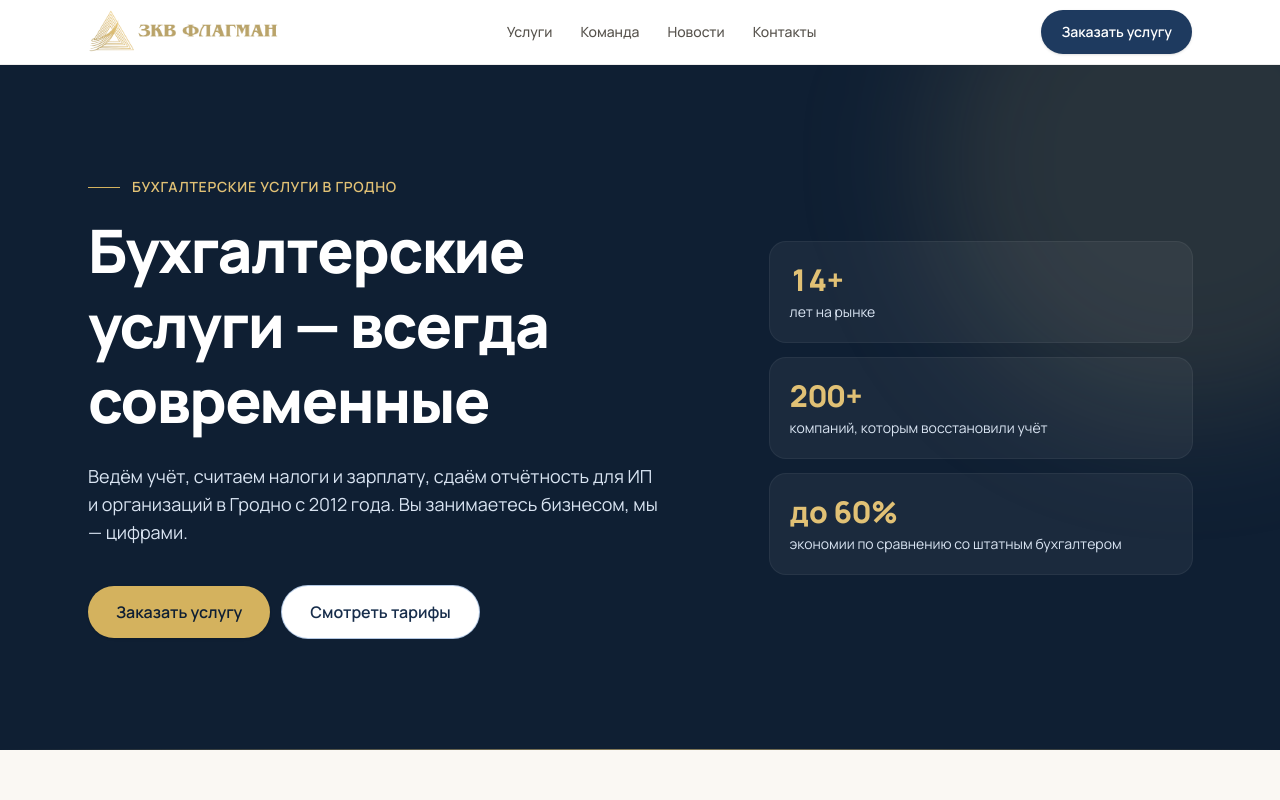
Test: App shell › opens the order modal from the header button
Click the 1st button "Заказать услугу" at (1117, 32), box x1=1041 y1=10 x2=1192 y2=54
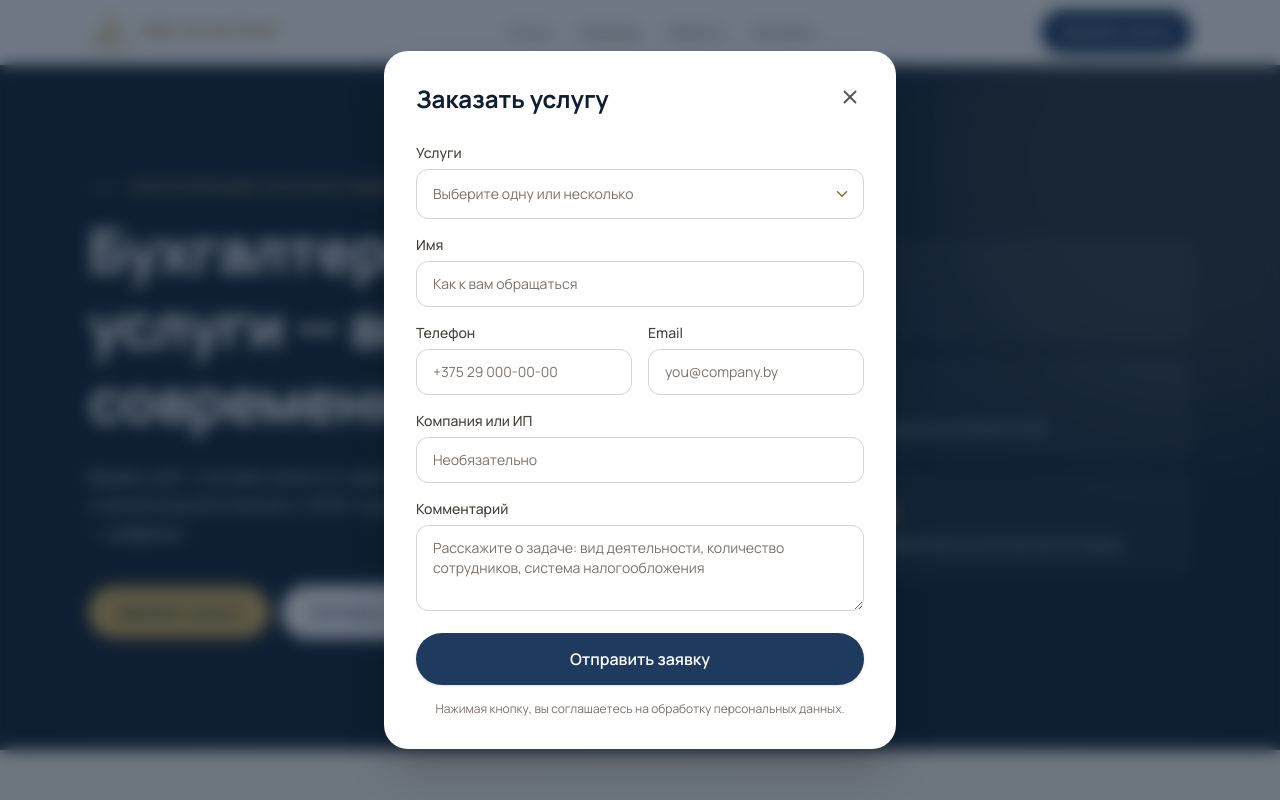
Check: the dialog "Заказать услугу" is shown, box x1=384 y1=51 x2=896 y2=749
Press Escape
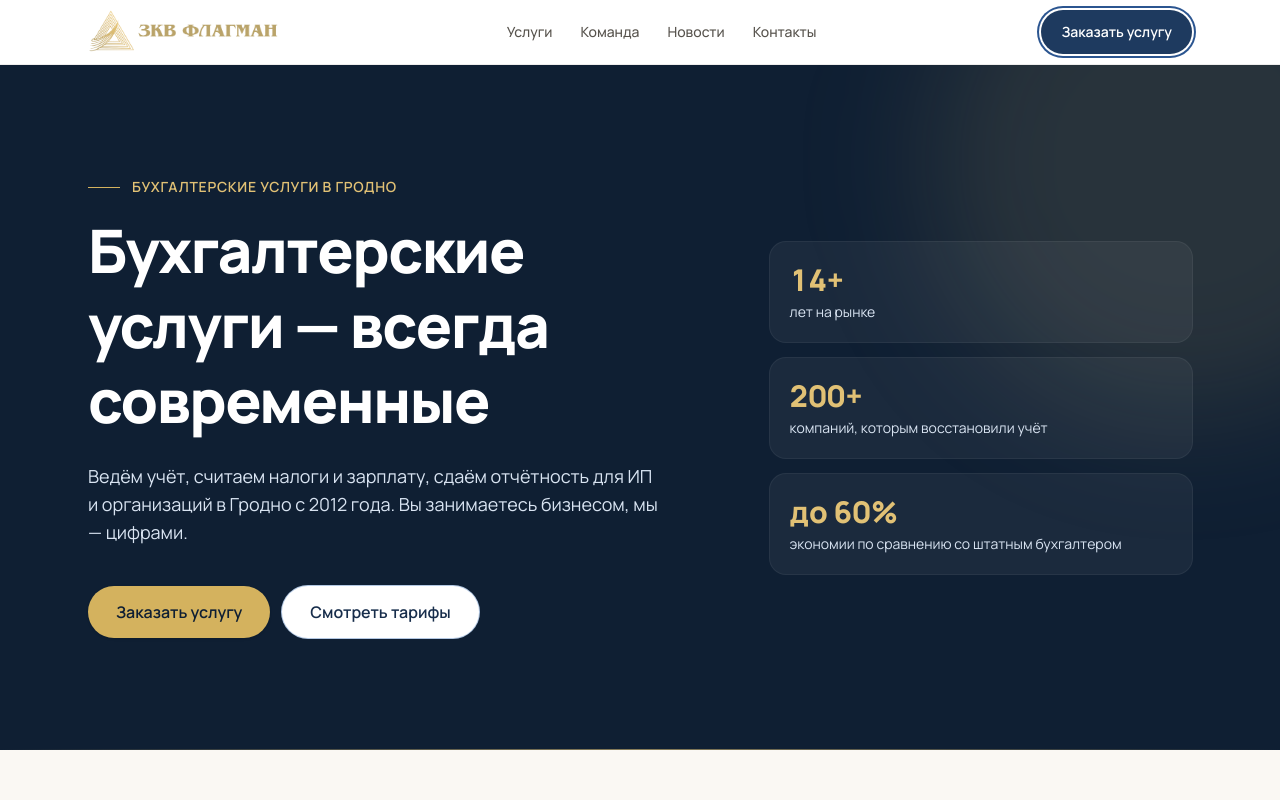
Check: the dialog is gone
